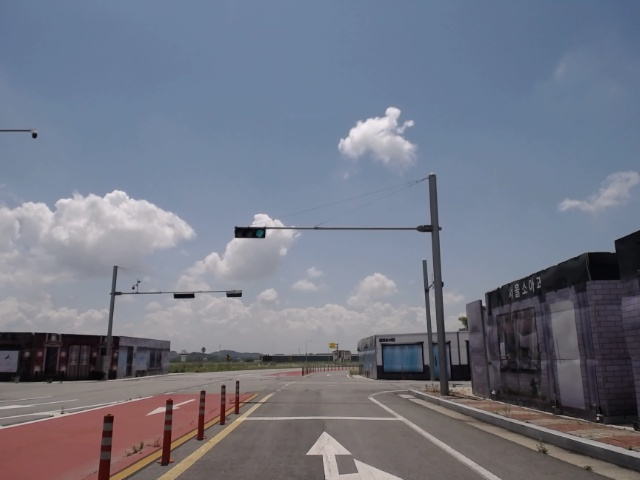green_3: (235, 227, 264, 238)
